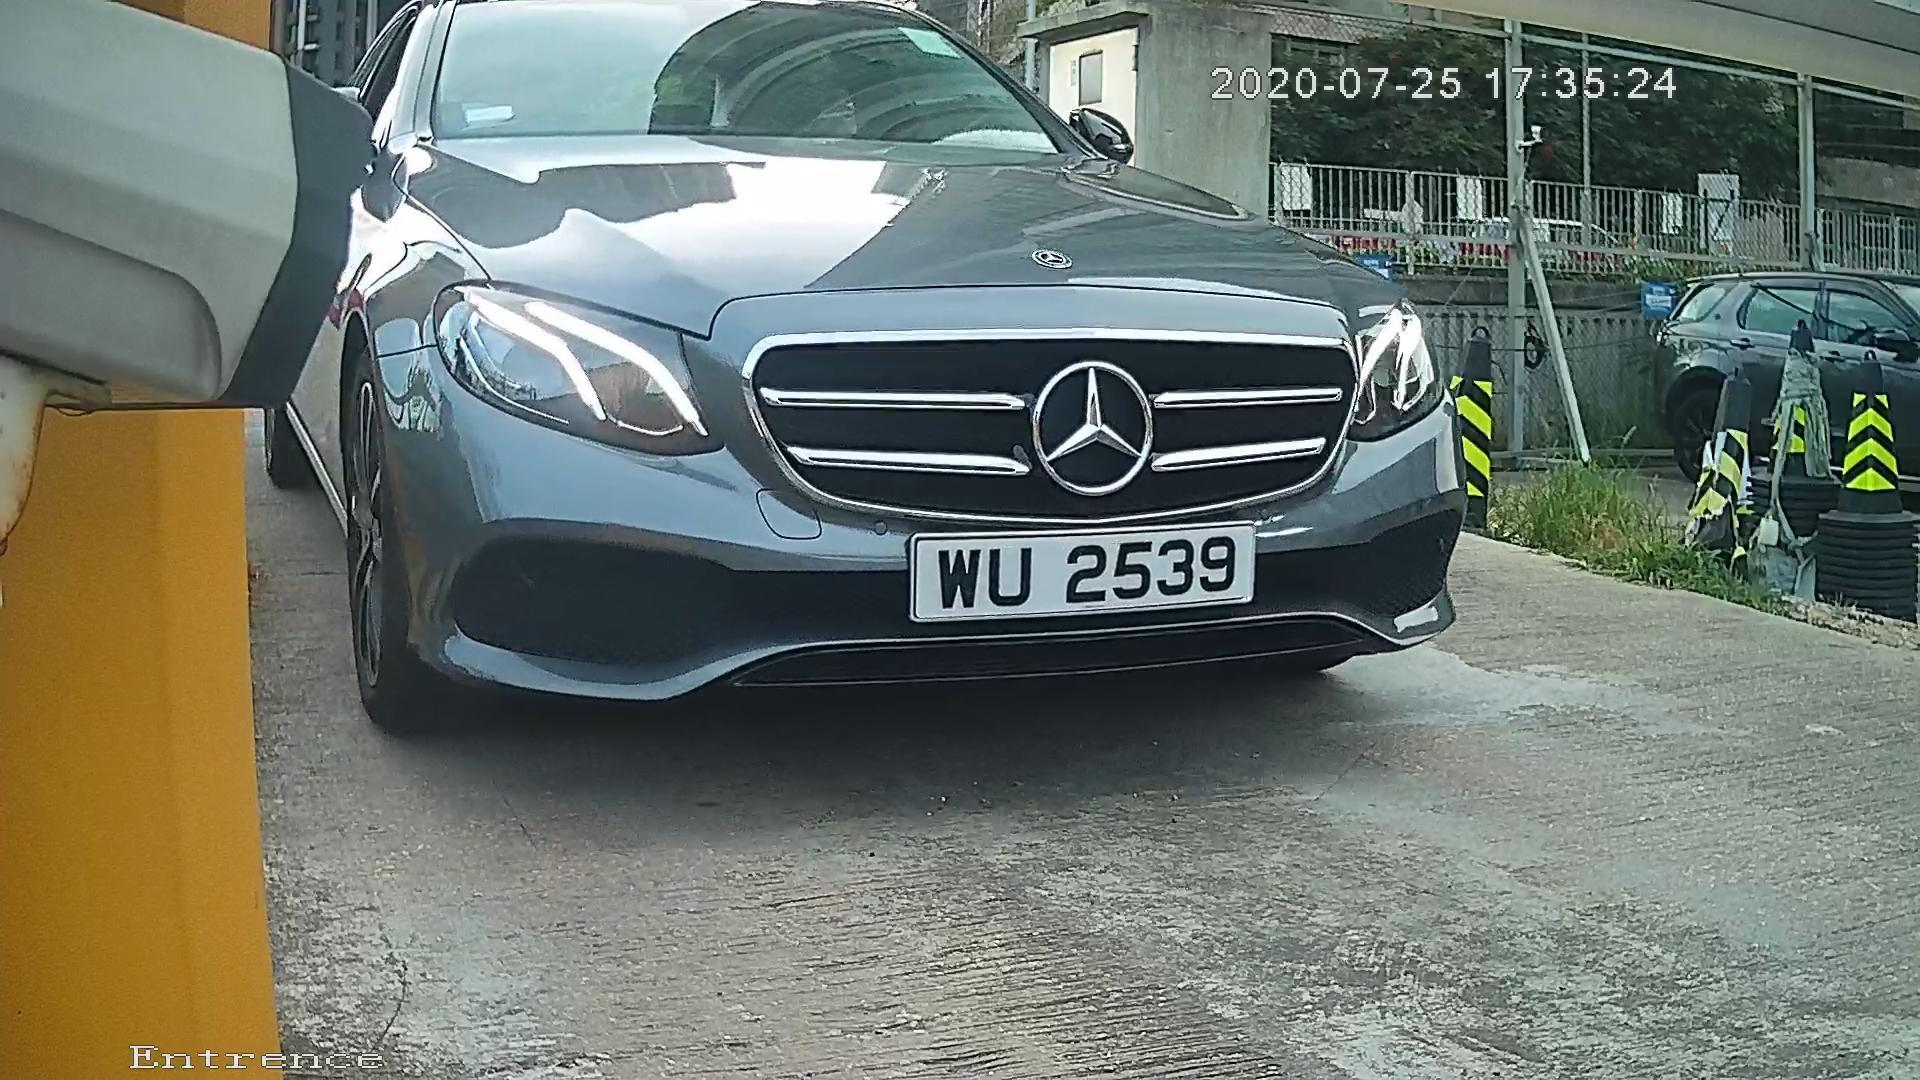privatecar: (198, 5, 1604, 791)
